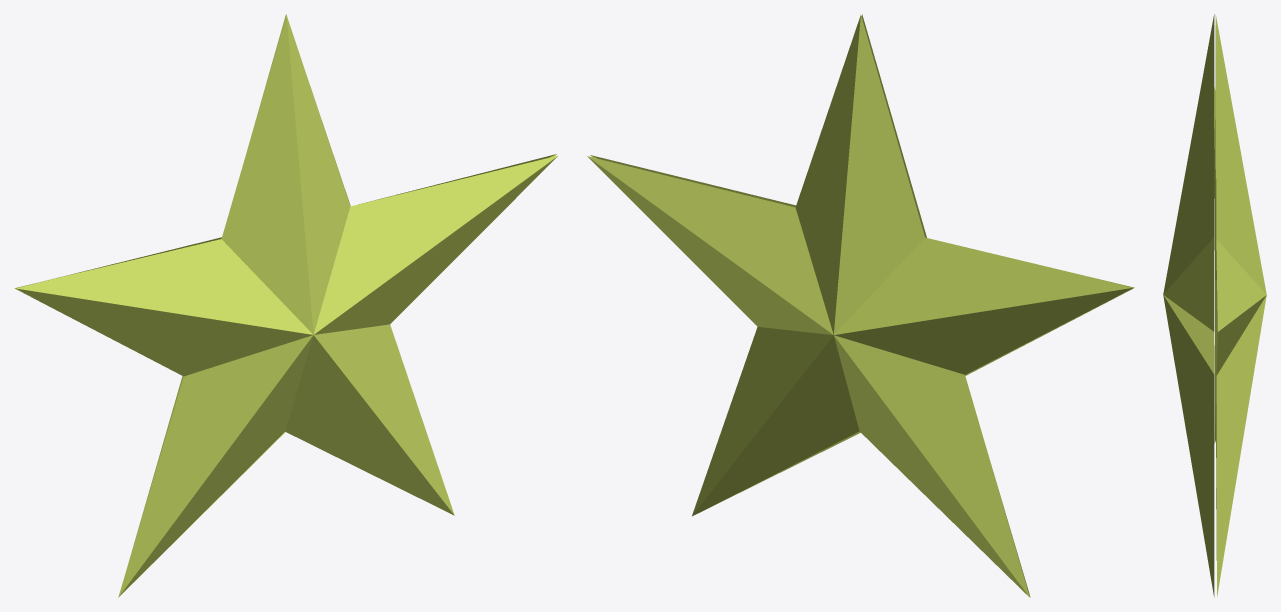
File: newstar.fbx
3 views of the same model, side by side, from view 1: azimuth 30°, elevation 25°; view 2: azimuth 150°, elevation 25°; view 3: azimuth 270°, elevation 25° (orthographic). The views are drawn at different scales.
Parts seen in each view (by area): view 1: Circle.001, Circle; view 2: Circle, Circle.001; view 3: Circle, Circle.001.
Part boxes in pixels (<box>): Circle.001: <box>14,15,558,597</box>; Circle: <box>15,14,556,582</box>; Circle: <box>587,15,1133,597</box>; Circle.001: <box>590,14,1134,597</box>; Circle: <box>1214,14,1266,596</box>; Circle.001: <box>1163,14,1214,597</box>.
Size of the model in its own units: 3.23 by 3.07 by 0.567.
